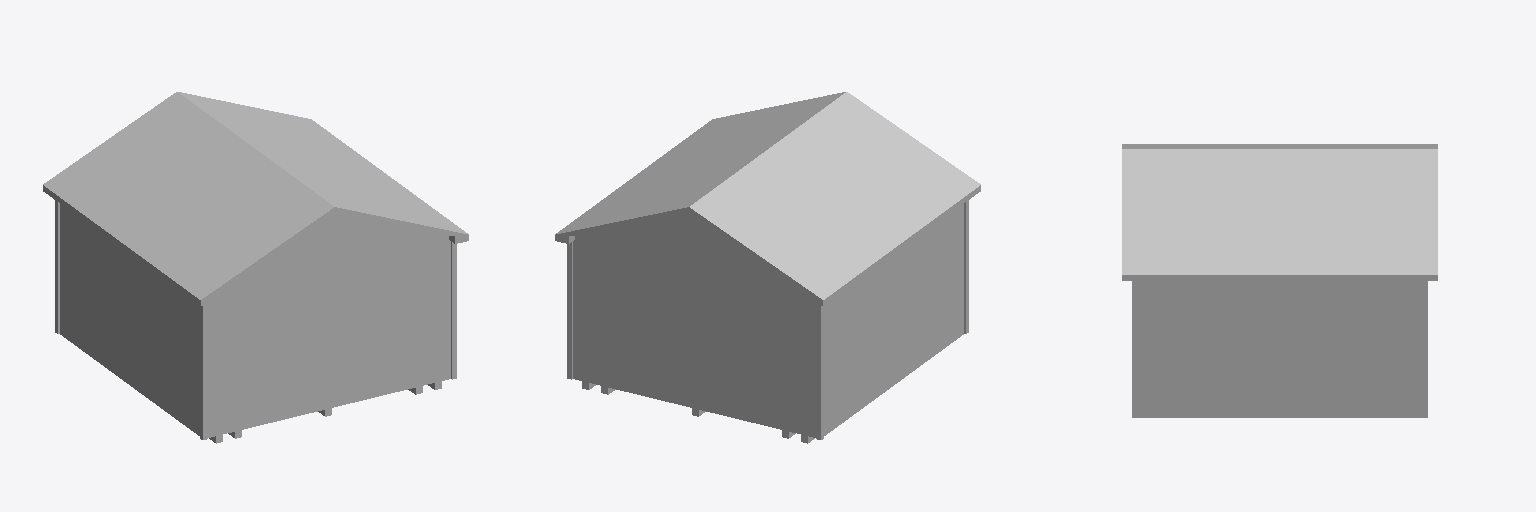
File: Classic A-Frame_12x12.obj
The picture shows the model from 3 angles: view 1: azimuth 30°, elevation 25°; view 2: azimuth 150°, elevation 25°; view 3: azimuth 270°, elevation 25°; orthographic projection.
Parts seen in each view (by area): view 1: Classic A-Frame_12x12.obj; view 2: Classic A-Frame_12x12.obj; view 3: Classic A-Frame_12x12.obj.
Boxes of the visible parts, x1,y1,x2,y2 form: Classic A-Frame_12x12.obj: [43, 92, 468, 443]; Classic A-Frame_12x12.obj: [555, 92, 980, 443]; Classic A-Frame_12x12.obj: [1122, 144, 1437, 417].
Size of the model in its own units: 3.9 by 2.96 by 3.96.